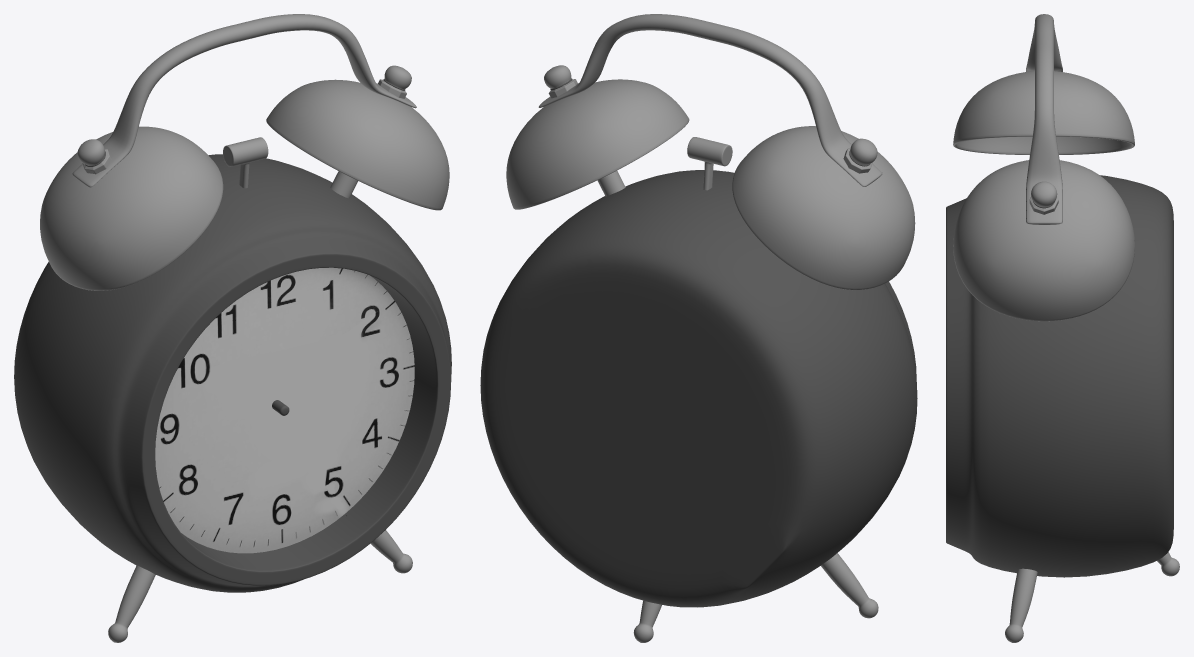
Rendered from desk_alarm_clock.glb.
The picture shows the model from 3 angles, left to right: view 1: azimuth 30°, elevation 25°; view 2: azimuth 150°, elevation 25°; view 3: azimuth 270°, elevation 25°; orthographic projection. The views are drawn at different scales.
Parts seen in each view (by area): view 1: Model; view 2: Model; view 3: Model.
Boxes of the visible parts, x1,y1,x2,y2 form: Model: (14, 14, 451, 642); Model: (480, 14, 917, 642); Model: (946, 14, 1179, 642).
Size of the model in its own units: 3.22 by 4.63 by 1.82.
3 materials, 1 textured.
